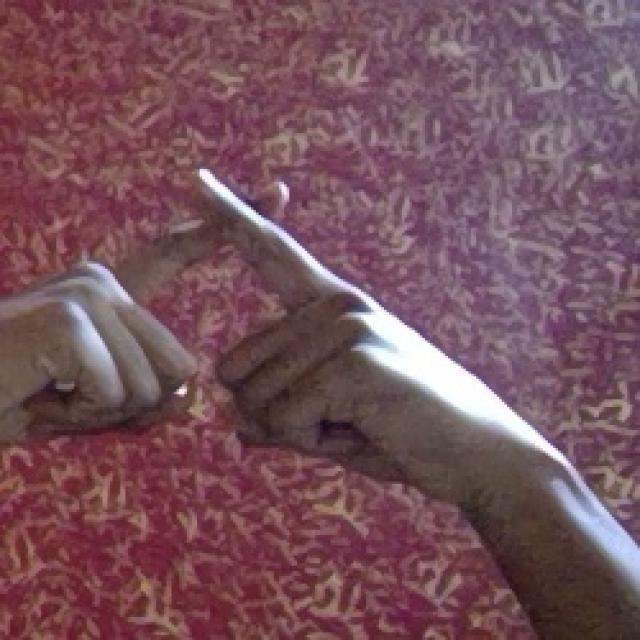Alphabet-X: (0, 161, 523, 508)
